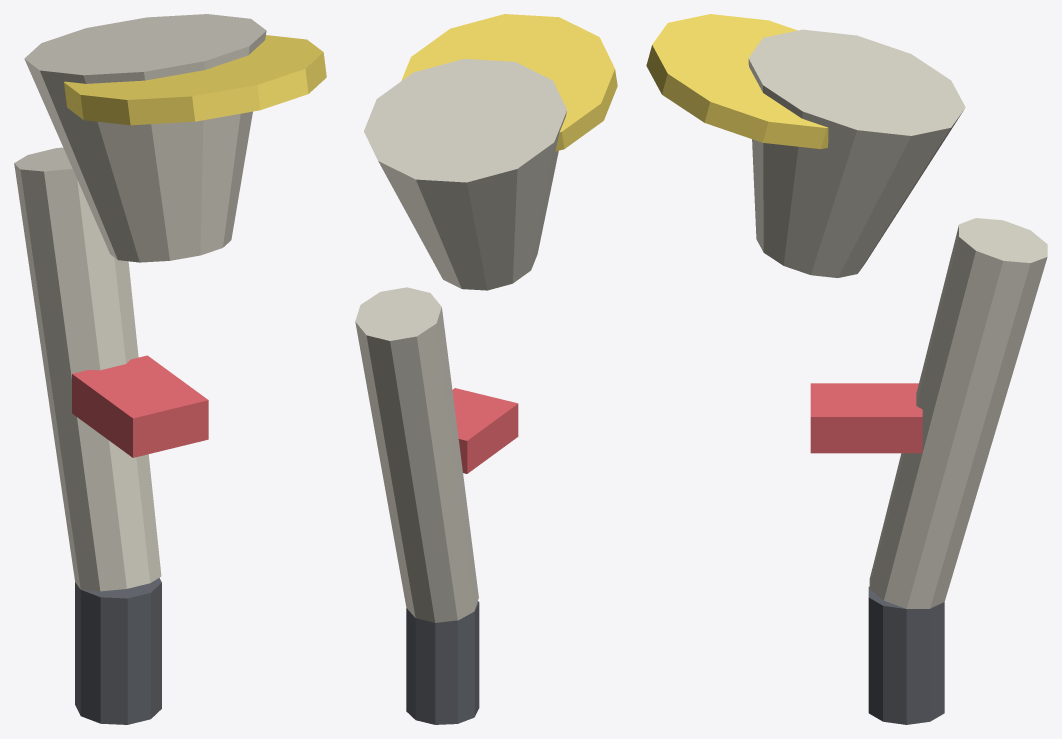
The model's file is lawn-mowing-simulator-kit-oversized-novelty-exhaust-76310bb6__27363.glb.
3 views of the same model, side by side, from view 1: azimuth 30°, elevation 25°; view 2: azimuth 150°, elevation 25°; view 3: azimuth 270°, elevation 25° (orthographic). The views are drawn at different scales.
Visible parts, largest first — view 1: oversized-novelty-exhaust; view 2: oversized-novelty-exhaust; view 3: oversized-novelty-exhaust.
Part boxes in pixels (left/top/right/bottom): oversized-novelty-exhaust: left=14, top=14, right=326, bottom=724; oversized-novelty-exhaust: left=355, top=14, right=617, bottom=724; oversized-novelty-exhaust: left=646, top=14, right=1047, bottom=724.
Bounding box in the file's own units: 0.3 × 0.9154 × 0.5019.
